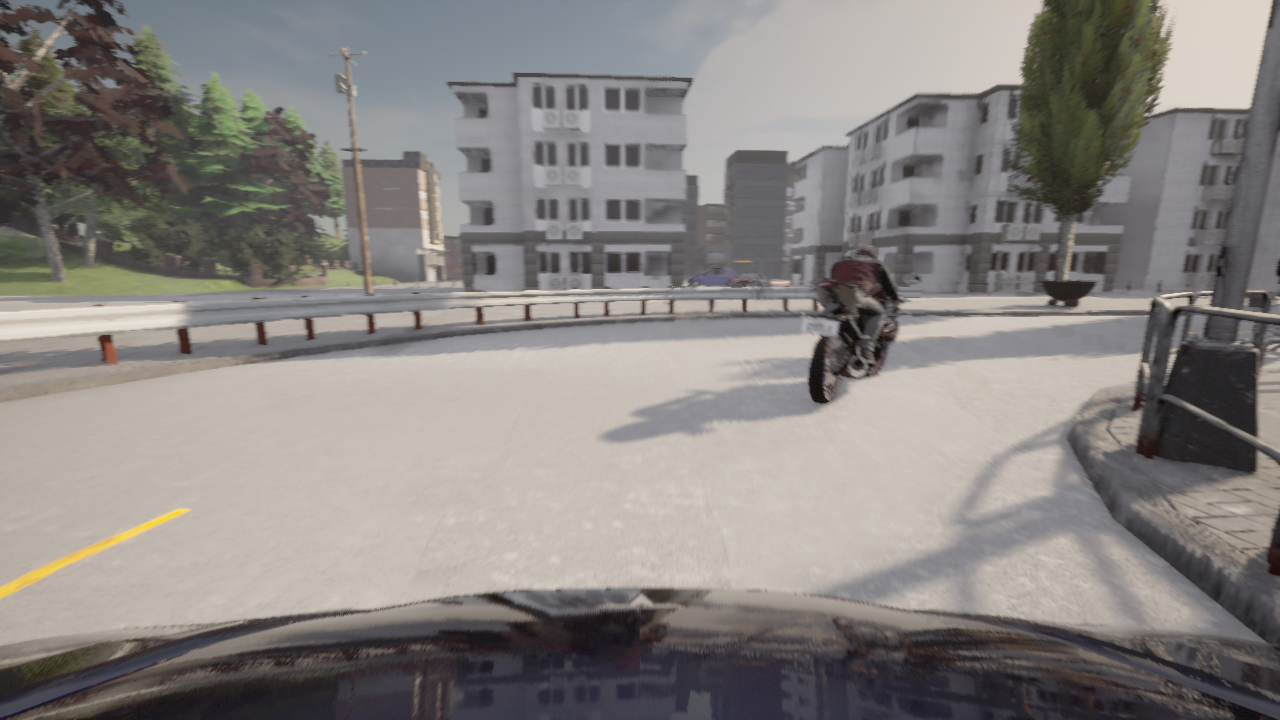cyclist: (0, 588, 1279, 719), (796, 275, 920, 404), (1253, 300, 1279, 351), (687, 268, 737, 287), (731, 271, 770, 286), (736, 279, 757, 280)
